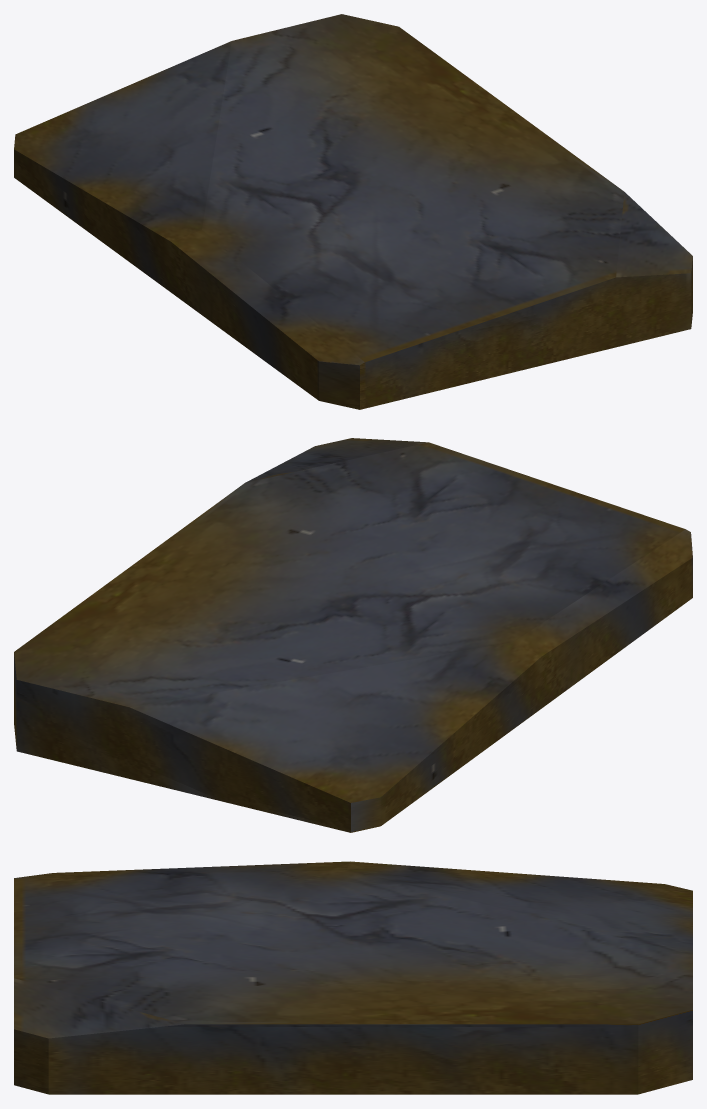
File: block.glb
The picture shows the model from 3 angles, top to bottom: view 1: azimuth 30°, elevation 25°; view 2: azimuth 150°, elevation 25°; view 3: azimuth 270°, elevation 25°; orthographic projection. The views are drawn at different scales.
Parts seen in each view (by area): view 1: Cube; view 2: Cube; view 3: Cube.
Part boxes in pixels (box(x1,y1,x2,y2)): Cube: box(14, 14, 692, 409); Cube: box(14, 438, 692, 832); Cube: box(14, 861, 692, 1094).
Size of the model in its own units: 0.5038 by 0.0906 by 0.7944.
1 material, 1 textured.
